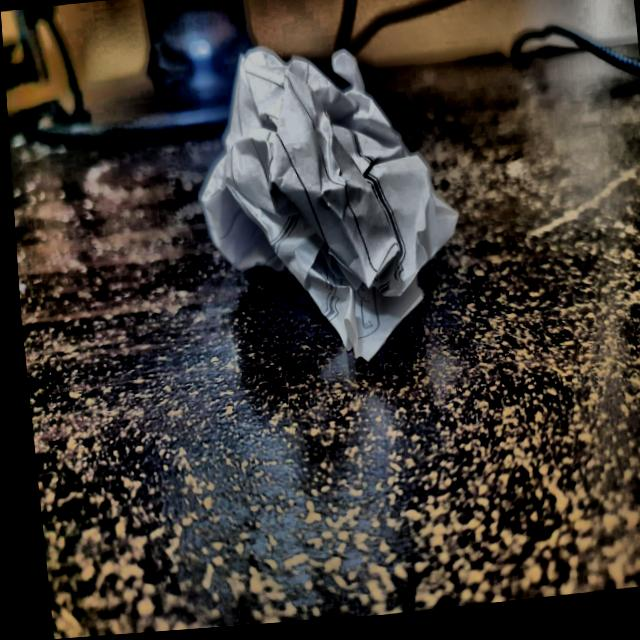Paper: (182, 24, 469, 367)
